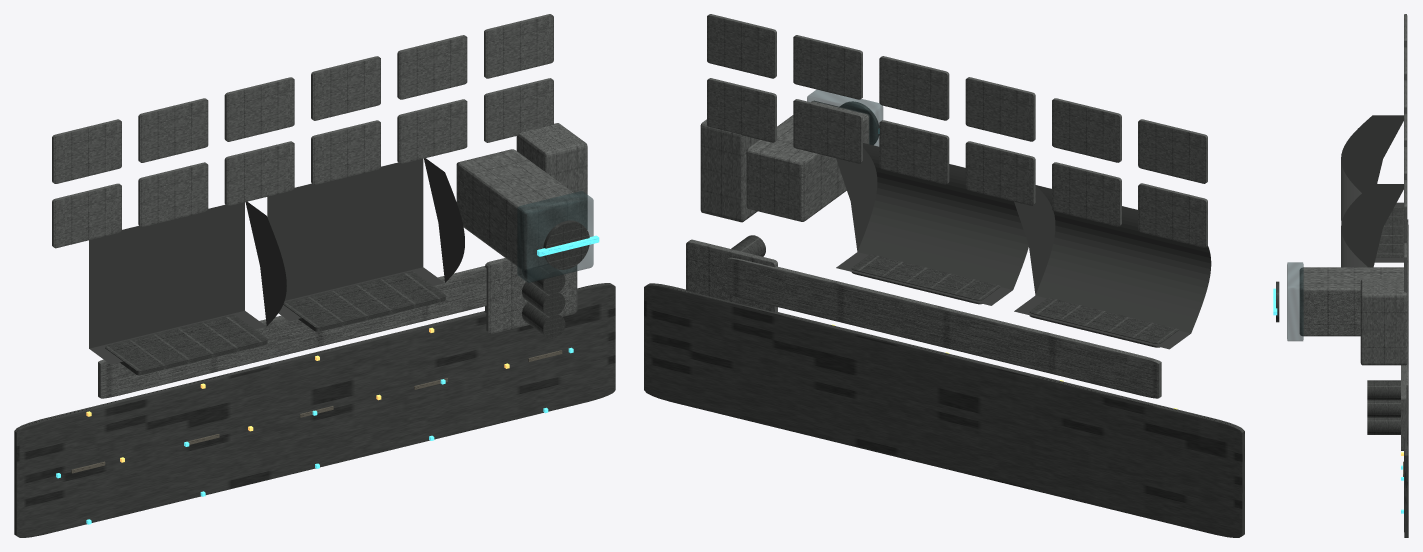
Rendered from b-19-frontline-airfield-lod0.glb.
3 renders of one model, left to right at view 1: azimuth 30°, elevation 25°; view 2: azimuth 150°, elevation 25°; view 3: azimuth 270°, elevation 25°, orthographic. The views are drawn at different scales.
Visible parts, largest first — view 1: runway, hangar_left, hangar_right, control_tower, taxiway, hangar_door_left, hangar_door_right, control_glass, operations_block, parking_08, parking_05, parking_11 (+14 smaller); view 2: runway, taxiway, hangar_left, hangar_right, control_tower, operations_block, parking_04, parking_09, parking_03, parking_10, parking_01, parking_12 (+10 smaller); view 3: control_tower, operations_block, hangar_left, hangar_right, control_glass, hangar_door_left, runway, fuel_tank_0.75, fuel_tank_-0.75, fuel_tank_0, fuel_farm_pad, taxiway (+2 smaller).
Boxes of the visible parts, x1,y1,x2,y2 form: runway: (14, 283, 615, 537); hangar_left: (89, 201, 286, 364); hangar_right: (267, 158, 464, 320); control_tower: (456, 149, 579, 270); taxiway: (98, 266, 486, 398); hangar_door_left: (105, 315, 267, 375); hangar_door_right: (283, 271, 445, 331); control_glass: (517, 191, 593, 282); operations_block: (516, 123, 587, 229); parking_08: (138, 98, 208, 162); parking_05: (397, 99, 467, 163); parking_11: (397, 35, 467, 99); runway: (644, 283, 1244, 537); taxiway: (727, 257, 1161, 398); hangar_left: (1014, 185, 1211, 349); hangar_right: (836, 143, 1028, 305); control_tower: (746, 101, 869, 221); operations_block: (700, 119, 758, 222); parking_04: (879, 120, 949, 184); parking_09: (965, 77, 1035, 141); parking_03: (965, 141, 1035, 205); parking_10: (879, 56, 949, 120); parking_01: (1138, 183, 1207, 247); parking_12: (707, 14, 776, 78); control_tower: (1300, 267, 1407, 336); operations_block: (1360, 279, 1407, 365); hangar_left: (1341, 115, 1403, 262); hangar_right: (1341, 184, 1403, 267); control_glass: (1287, 262, 1303, 341); hangar_door_left: (1376, 207, 1403, 257); runway: (1404, 225, 1408, 537); fuel_tank_0.75: (1367, 380, 1400, 400); fuel_tank_-0.75: (1367, 417, 1400, 434); fuel_tank_0: (1367, 400, 1400, 417); fuel_farm_pad: (1401, 365, 1406, 450); taxiway: (1406, 219, 1408, 412).
Size of what is drawn, in the model's own units: 21.5 by 13.57 by 5.34.
Materials: 7 (7 with a texture image).
